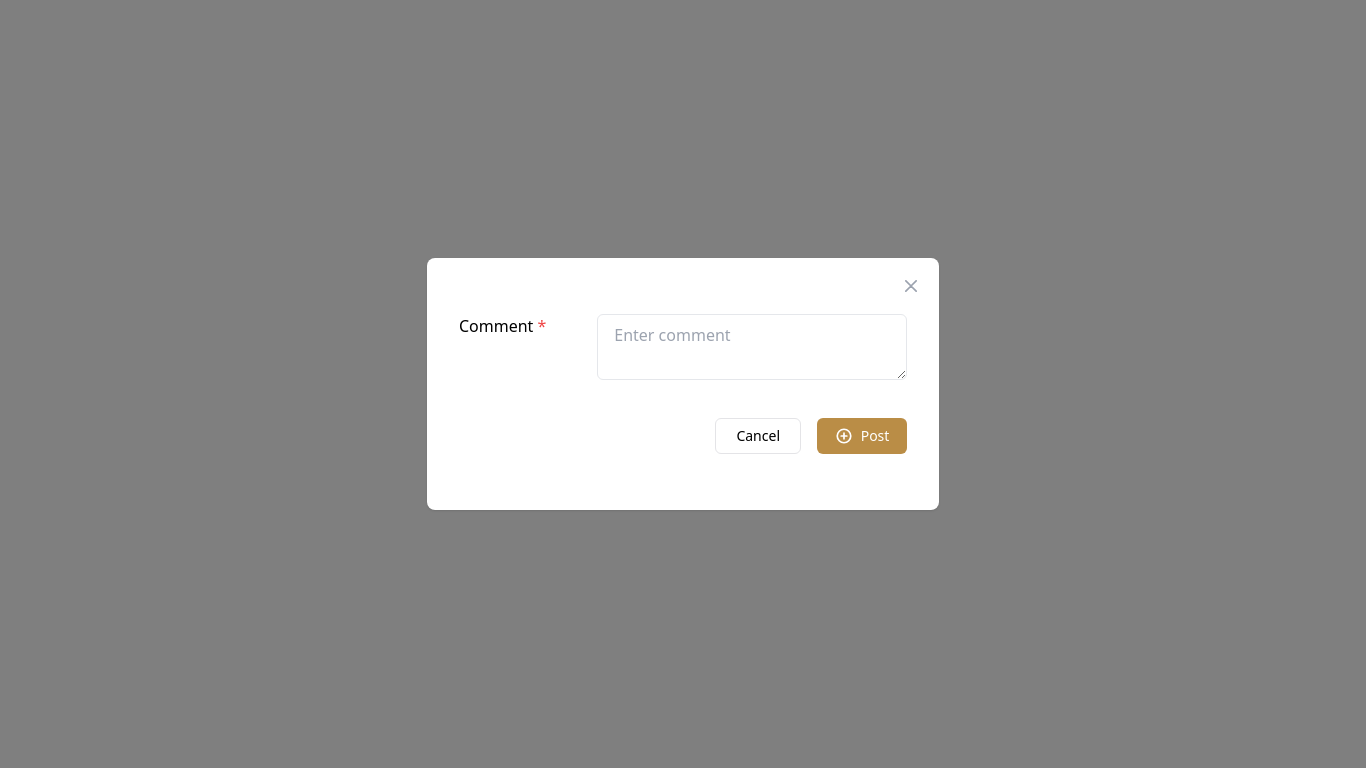
Test: Member Performance Details › should show validation error when submitting empty comment
Click the button with test id "post".
click(862, 436)  # box top-left (817, 418), bottom-right (907, 454)
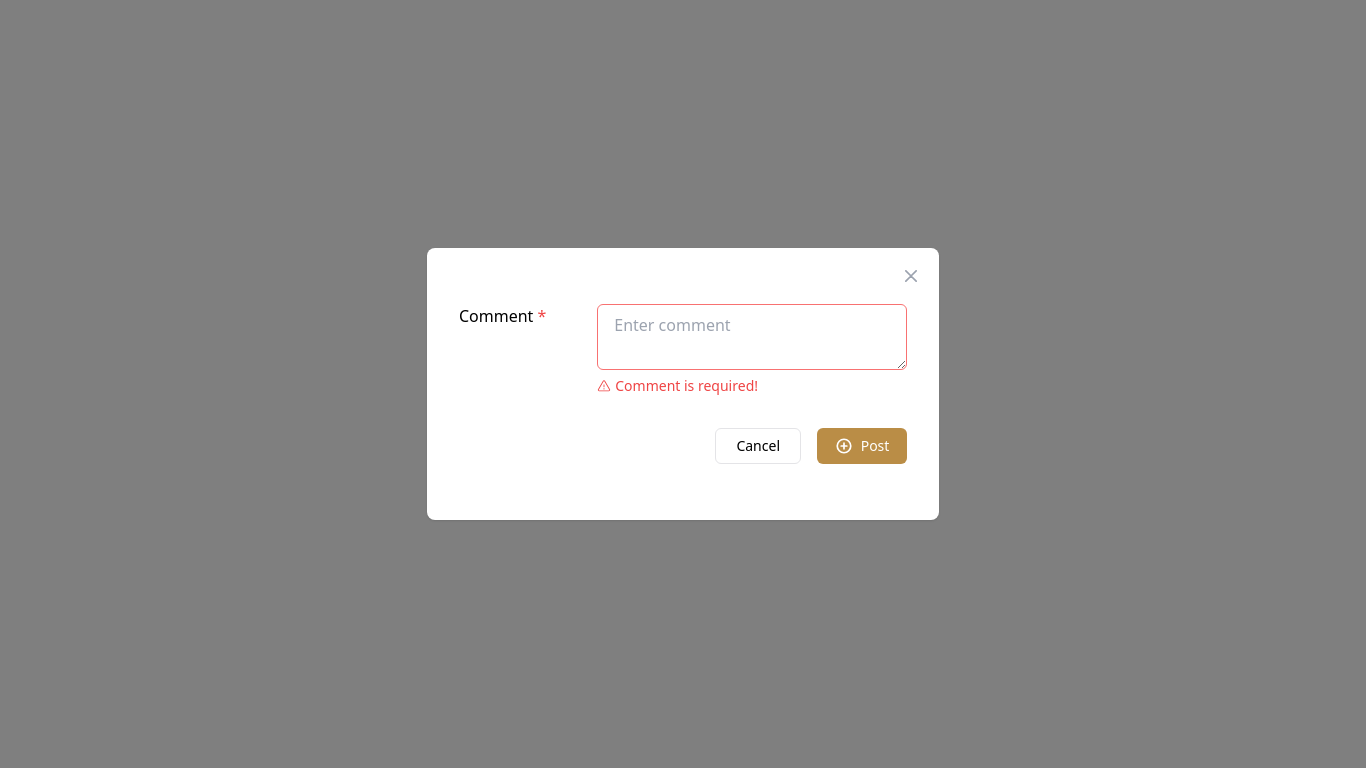
Check: the text "Comment is required!" is shown, box top-left (597, 376), bottom-right (758, 395)
